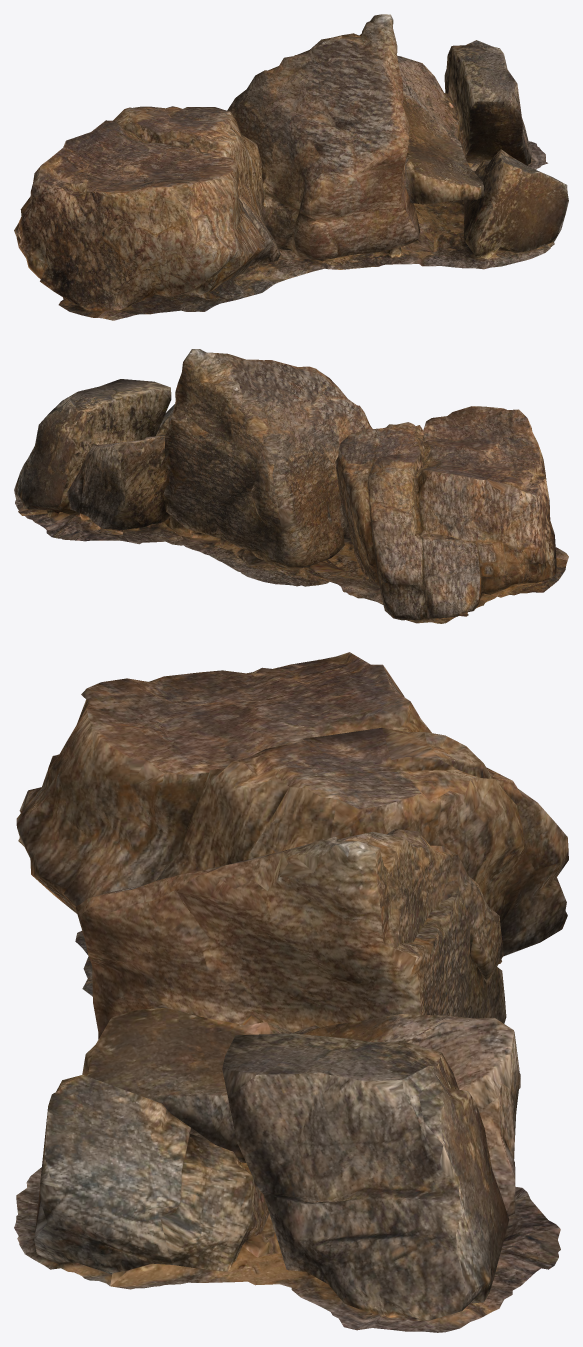
File: namaqualand_boulder_02.gltf
3 renders of one model, top to bottom at view 1: azimuth 30°, elevation 25°; view 2: azimuth 150°, elevation 25°; view 3: azimuth 270°, elevation 25°, orthographic. The views are drawn at different scales.
Visible parts, largest first — view 1: namaqualand_boulder_02__x; view 2: namaqualand_boulder_02__x; view 3: namaqualand_boulder_02__x.
Part boxes in pixels (x1,y1,x2,y2): namaqualand_boulder_02__x: (14,14,568,320); namaqualand_boulder_02__x: (14,349,568,623); namaqualand_boulder_02__x: (14,652,568,1332).
Size of the model in its own units: 2.53 by 0.8767 by 1.23.
1 material, 1 textured.
